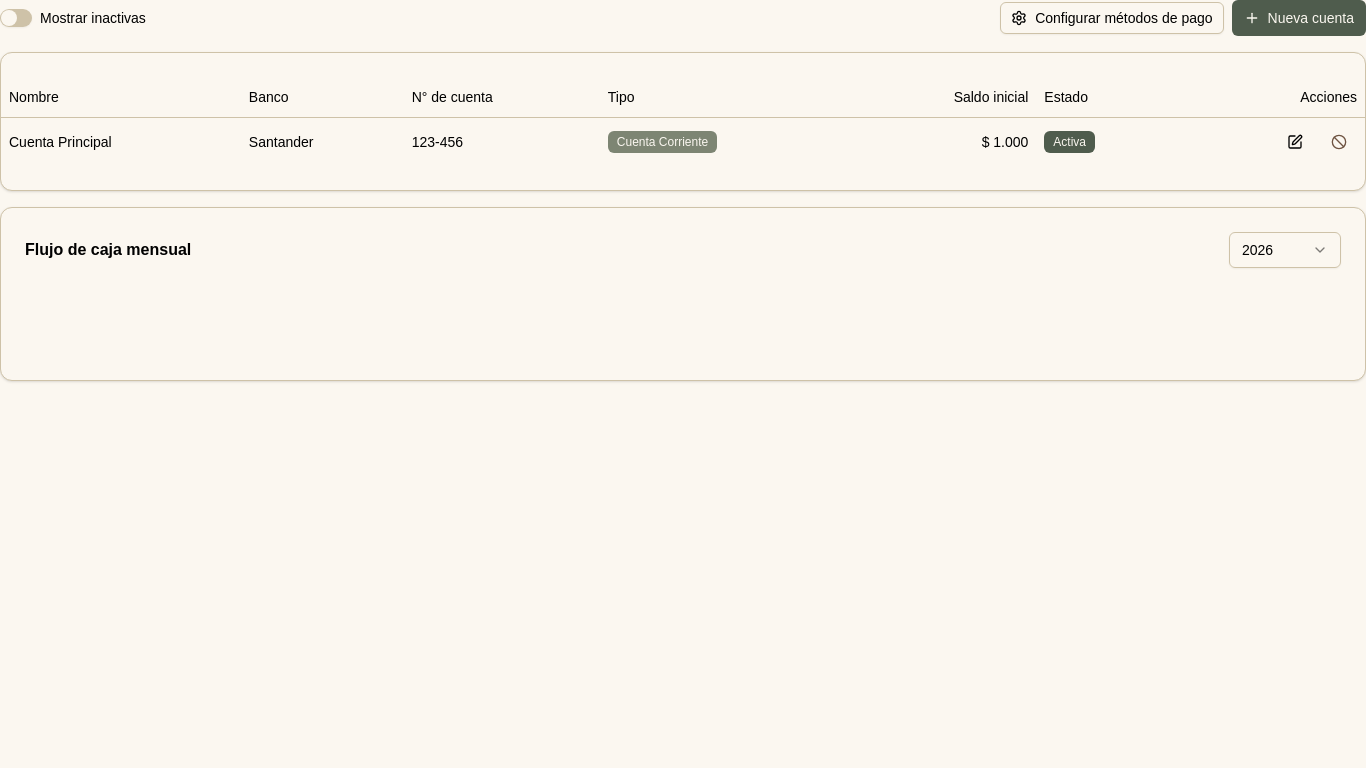
Test: BankAccountsTab › opens the confirm dialog when deactivate is clicked, without deactivating yet
Expected: the text "¿Desactivar cuenta bancaria?" is not shown
Step 1. Click the button named "Desactivar" → (1339,142), box [1321,126,1357,158]
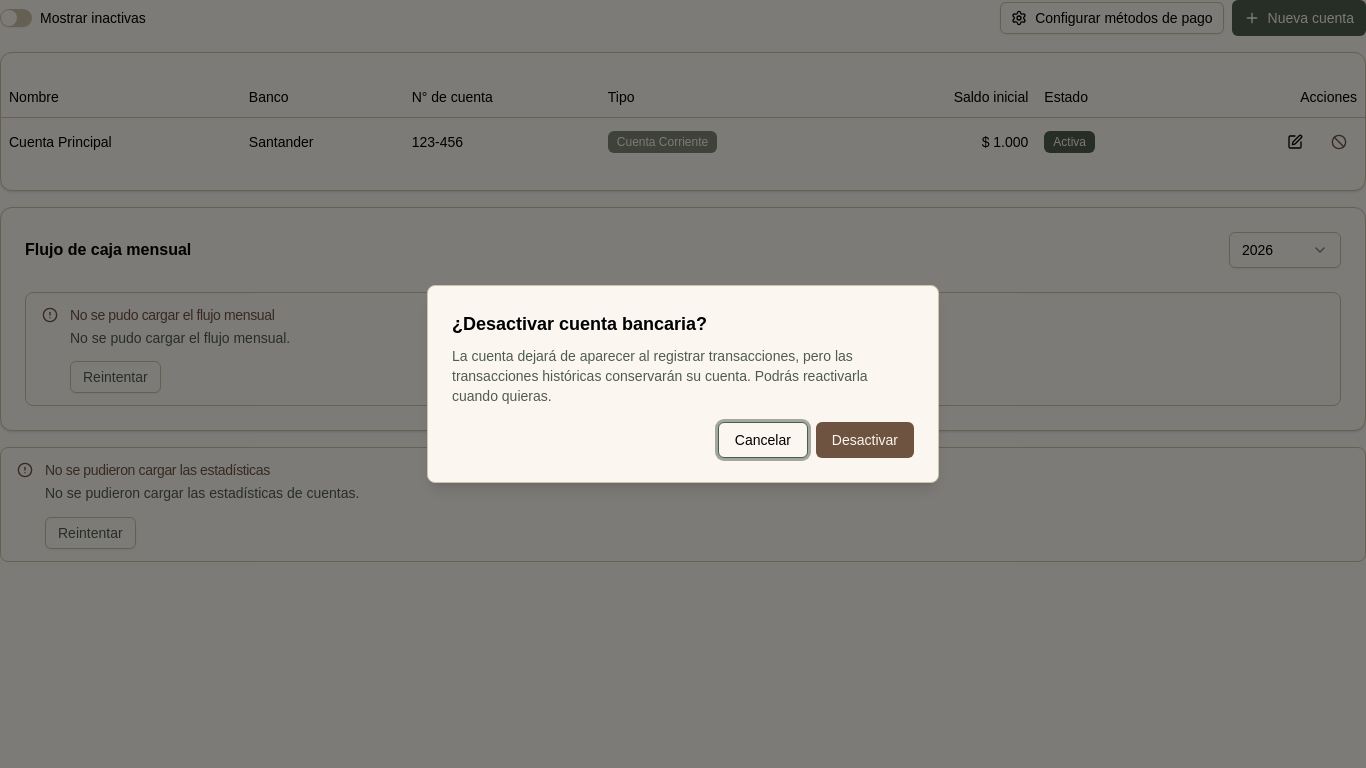
Expected: the heading "¿Desactivar cuenta bancaria?" is shown, [452,314,707,334]
